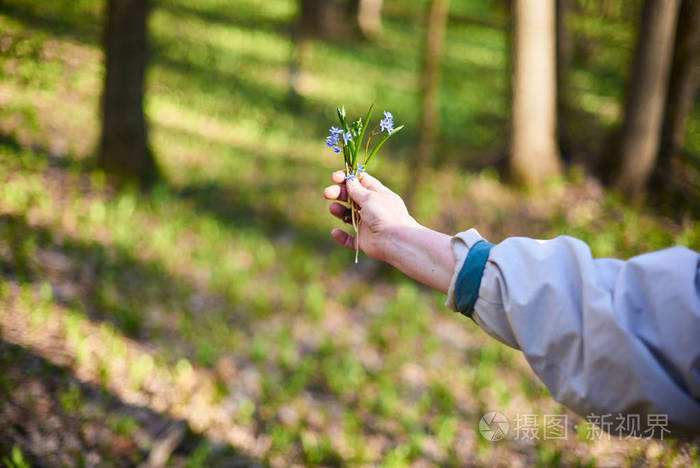no-phone: (320, 102, 419, 270)
